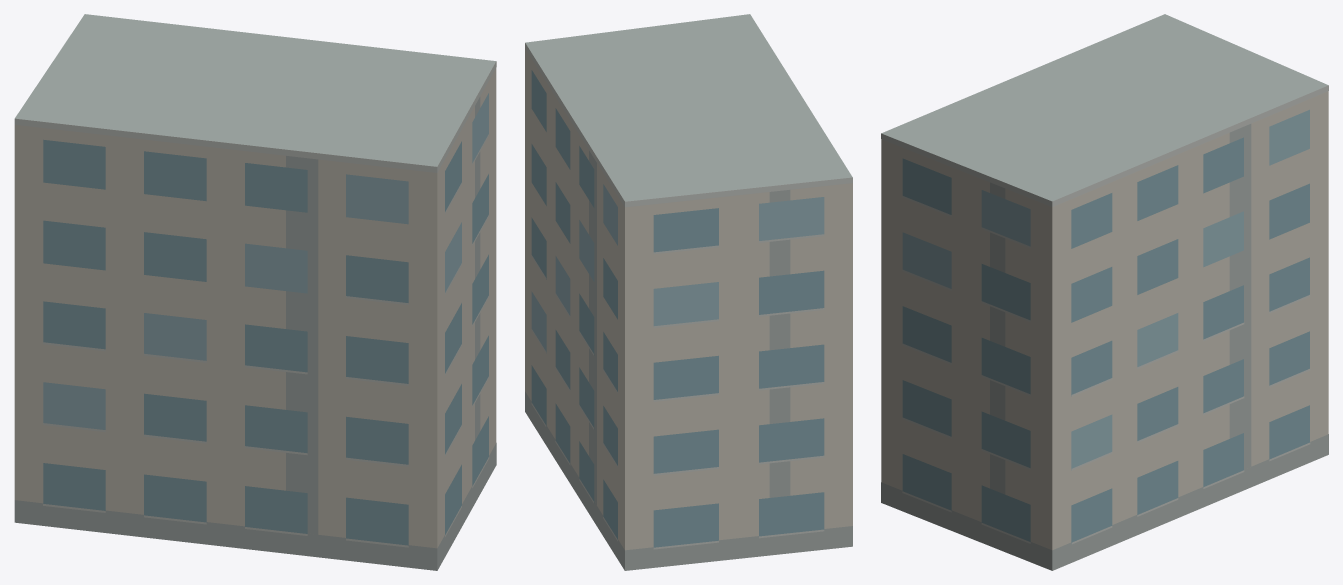
The model's file is survey-upis-32842743.glb.
3 views of the same model, side by side, from view 1: azimuth 30°, elevation 25°; view 2: azimuth 150°, elevation 25°; view 3: azimuth 270°, elevation 25° (orthographic). The views are drawn at different scales.
Visible parts, largest first — view 1: survey-upis-32842743.tmp; view 2: survey-upis-32842743.tmp; view 3: survey-upis-32842743.tmp.
Part boxes in pixels (bbox=[...]): survey-upis-32842743.tmp: bbox=[14, 14, 496, 570]; survey-upis-32842743.tmp: bbox=[525, 14, 852, 570]; survey-upis-32842743.tmp: bbox=[881, 14, 1328, 570].
Size of the model in its own units: 17.37 by 15.95 by 17.52.
